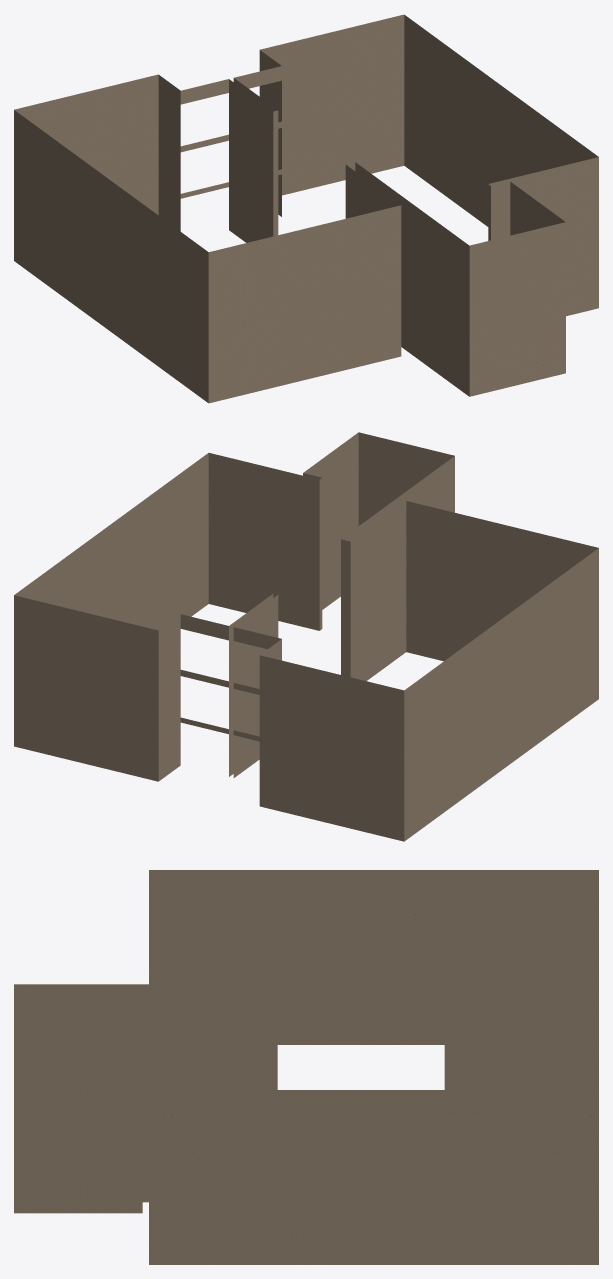
The model's file is wall.dae.
The picture shows the model from 3 angles, top to bottom: view 1: azimuth 30°, elevation 25°; view 2: azimuth 150°, elevation 25°; view 3: azimuth 270°, elevation 25°; orthographic projection. The views are drawn at different scales.
Visible parts, largest first — view 1: Room; view 2: Room; view 3: Room.
Part boxes in pixels (bbox=[...]): Room: bbox=[14, 14, 598, 403]; Room: bbox=[14, 432, 598, 841]; Room: bbox=[14, 870, 598, 1264].
Size of the model in its own units: 8.1 by 9.1 by 3.
